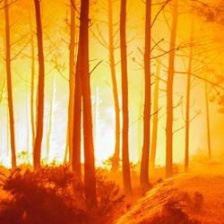fire: (1, 95, 192, 177)
